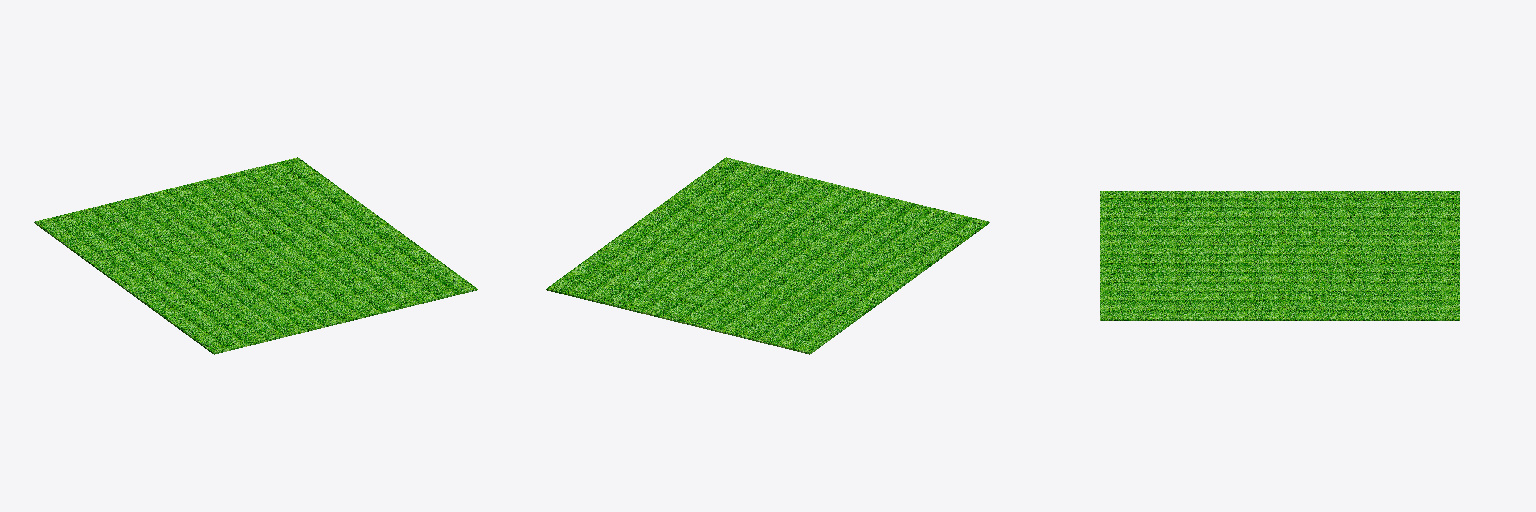
The picture shows the model from 3 angles: view 1: azimuth 30°, elevation 25°; view 2: azimuth 150°, elevation 25°; view 3: azimuth 270°, elevation 25°; orthographic projection.
Parts seen in each view (by area): view 1: Box001; view 2: Box001; view 3: Box001.
Boxes of the visible parts, box(x1,y1,x2,y2) form: Box001: box(34, 157, 477, 354); Box001: box(546, 157, 989, 354); Box001: box(1100, 191, 1459, 320).
Size of the model in its own units: 50.09 by 0.2759 by 59.01.
Materials: 1 (1 with a texture image).